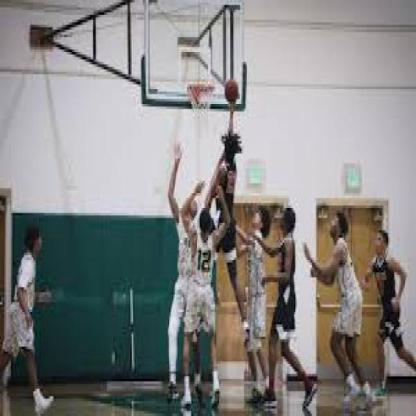basketball: (224, 79, 239, 104)
rim: (188, 82, 216, 96)
